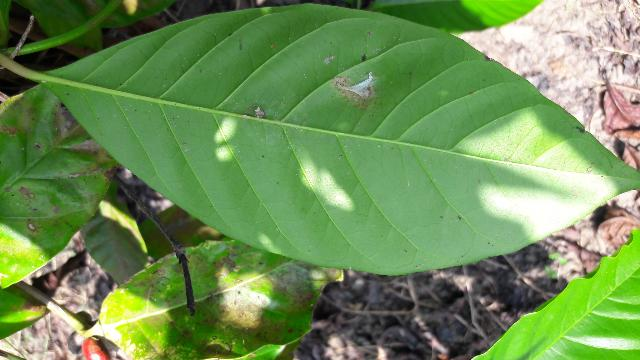healthy: (50, 9, 638, 268)
